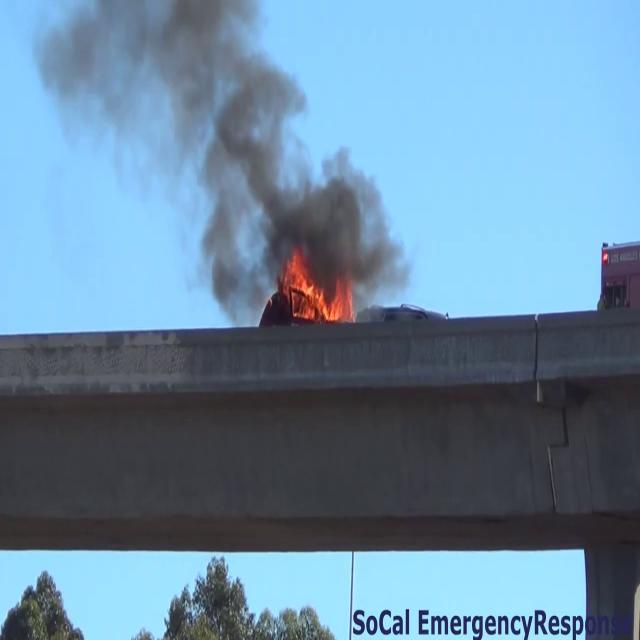Fire: (280, 255, 354, 329)
Smoke: (25, 0, 404, 292)
